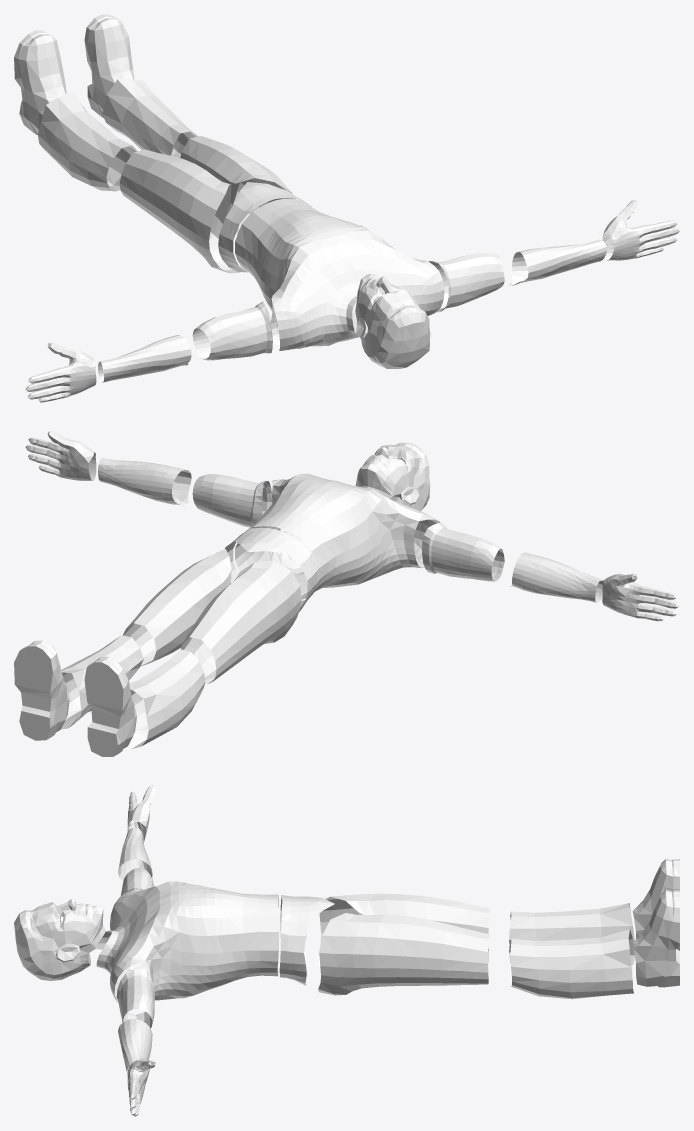
Rendered from vincent.dae.
3 renders of one model, top to bottom at view 1: azimuth 30°, elevation 25°; view 2: azimuth 150°, elevation 25°; view 3: azimuth 270°, elevation 25°, orthographic. The views are drawn at different scales.
Visible parts, largest first — view 1: node; view 2: node; view 3: node.
Boxes of the visible parts, <box> form: node: <box>14,14,679,402</box>; node: <box>14,431,679,756</box>; node: <box>14,785,679,1116</box>.
Bounding box in the file's own units: 1.93 × 0.321 × 1.77.
Materials: 1 (1 with a texture image).
